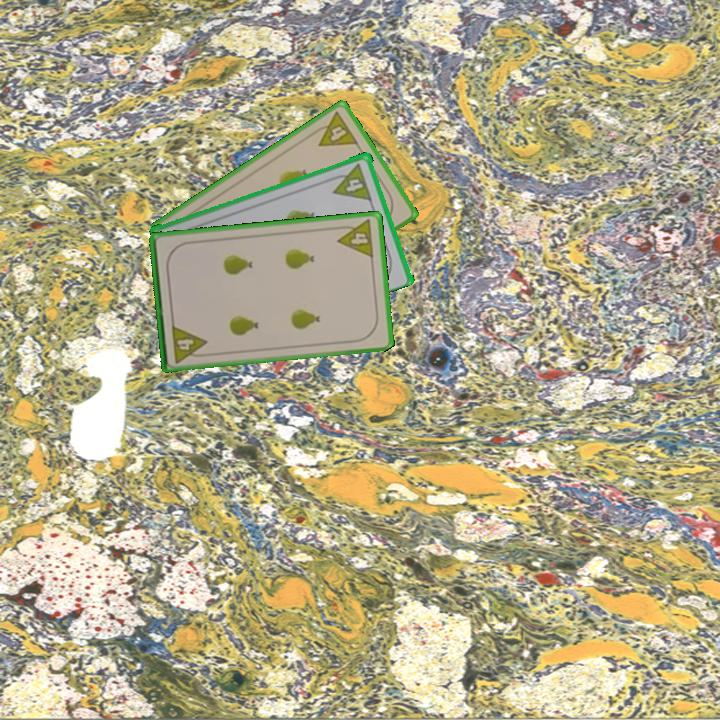4p: (308, 108, 361, 149), (326, 159, 374, 203), (333, 216, 376, 261), (168, 321, 210, 366)
